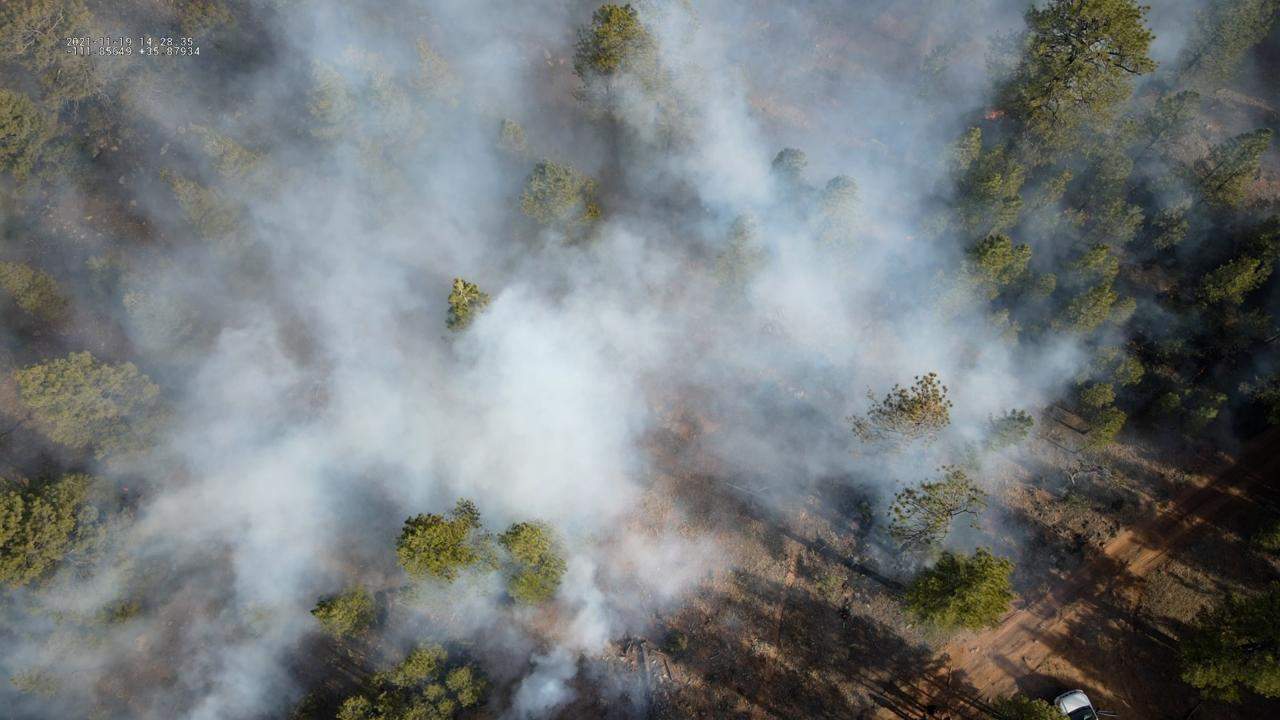fire: (982, 108, 1005, 122)
smoke: (0, 0, 1280, 720)
